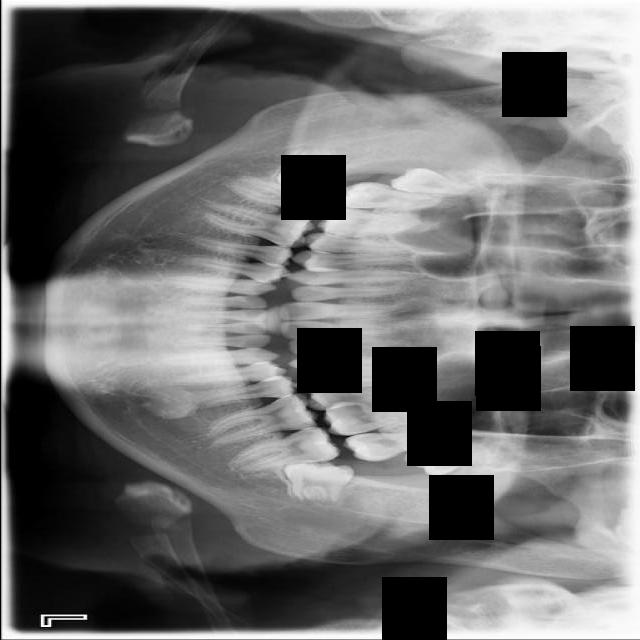3M ESPE Implant: (389, 167, 486, 197)
52: (339, 181, 373, 204), (288, 396, 312, 426), (287, 216, 309, 242), (329, 420, 347, 434)
73: (36, 601, 72, 621)
BioHorizons Implant: (341, 426, 455, 465)
BioLife Implant: (402, 439, 504, 479)
Biomet 3i Implant: (280, 457, 355, 509)
Blue Sky Bio Implant: (230, 423, 342, 474)
Caries: (336, 181, 442, 209)
Implant: (225, 176, 334, 219)
Keystone Dental Implant: (274, 146, 344, 188)
